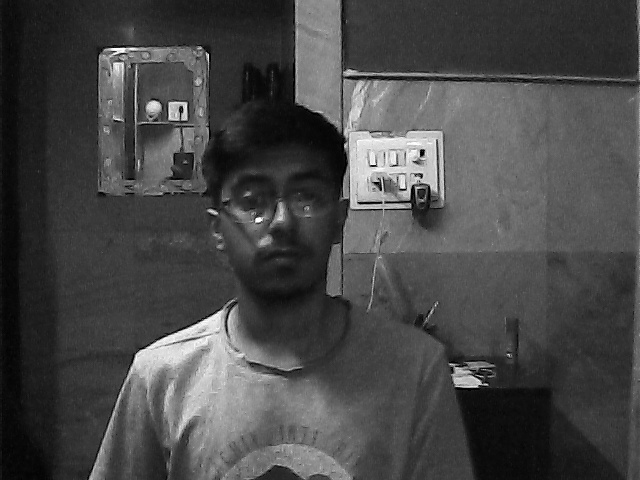nomask: (218, 145, 345, 299)
